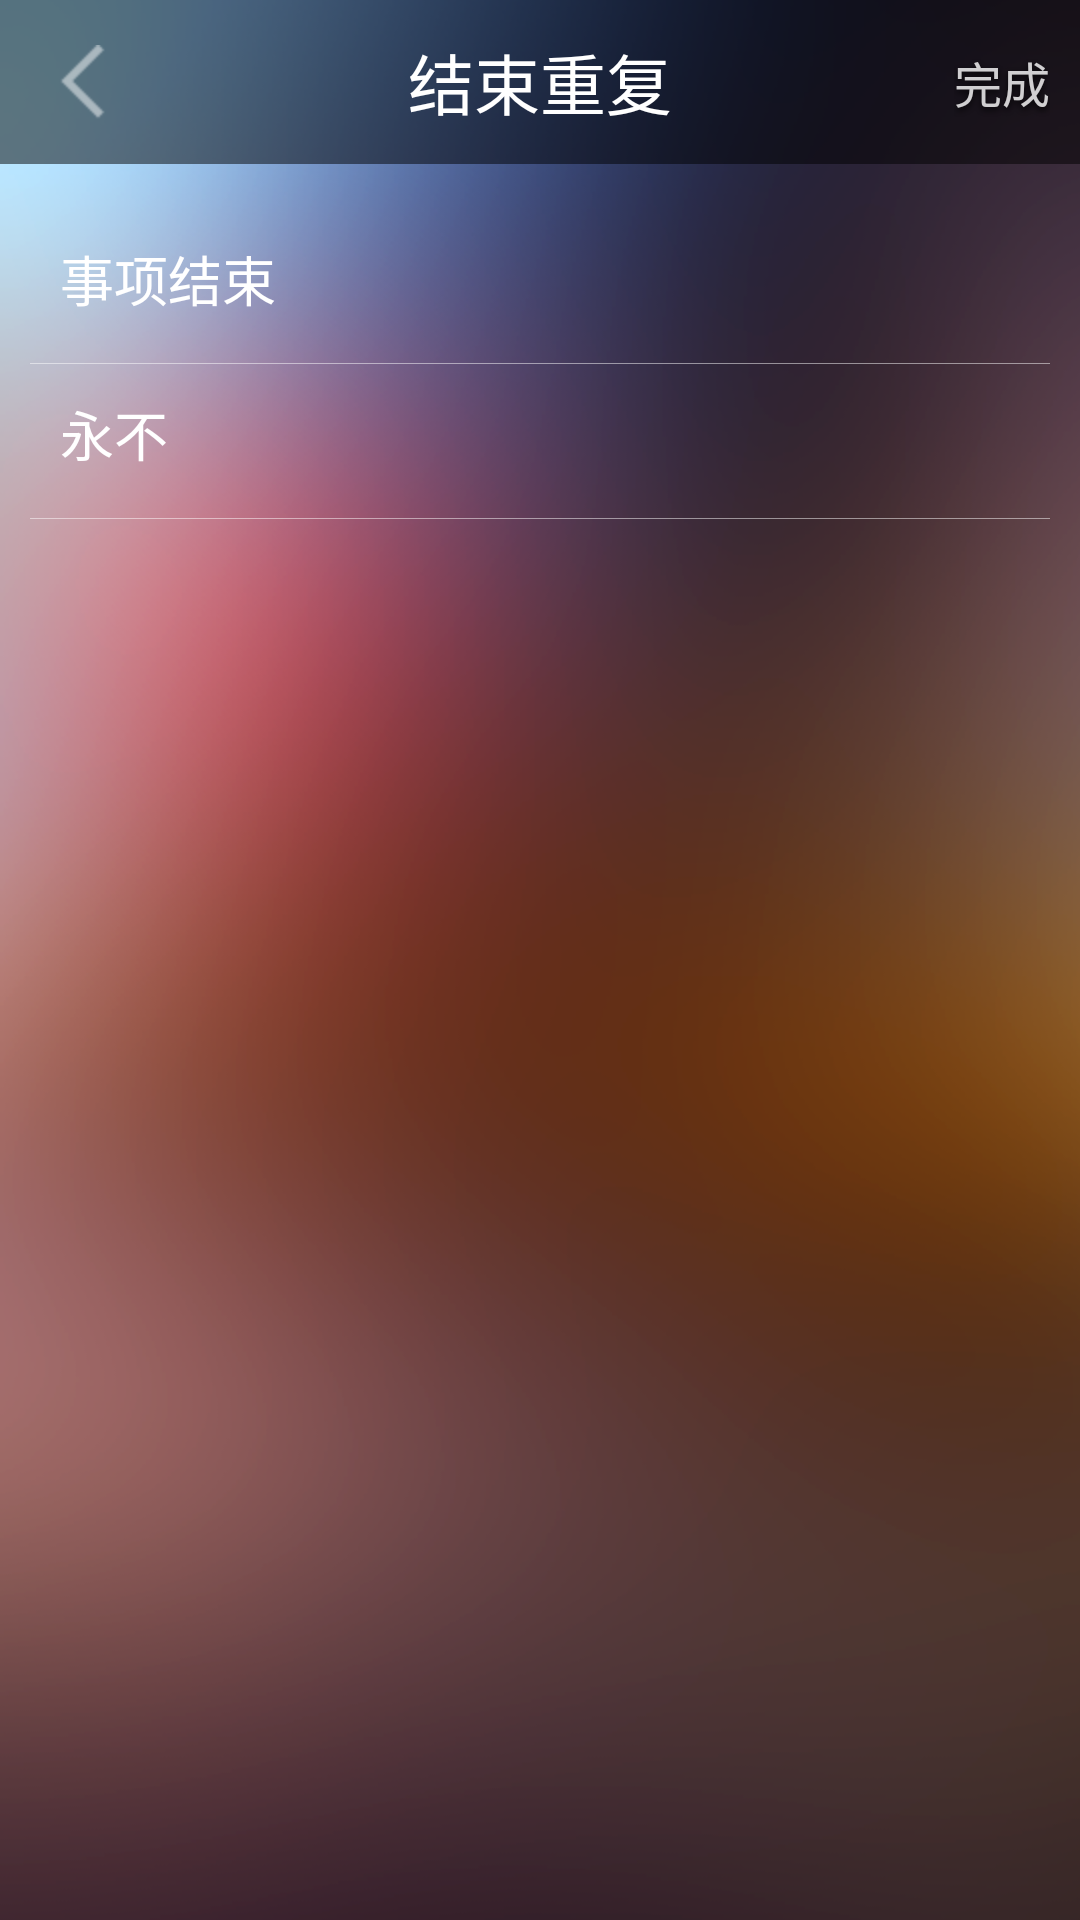

Icons on this 1080*1920 Android screen, each with the point to tap as point (x, y):
left arrow: point (84, 82)
